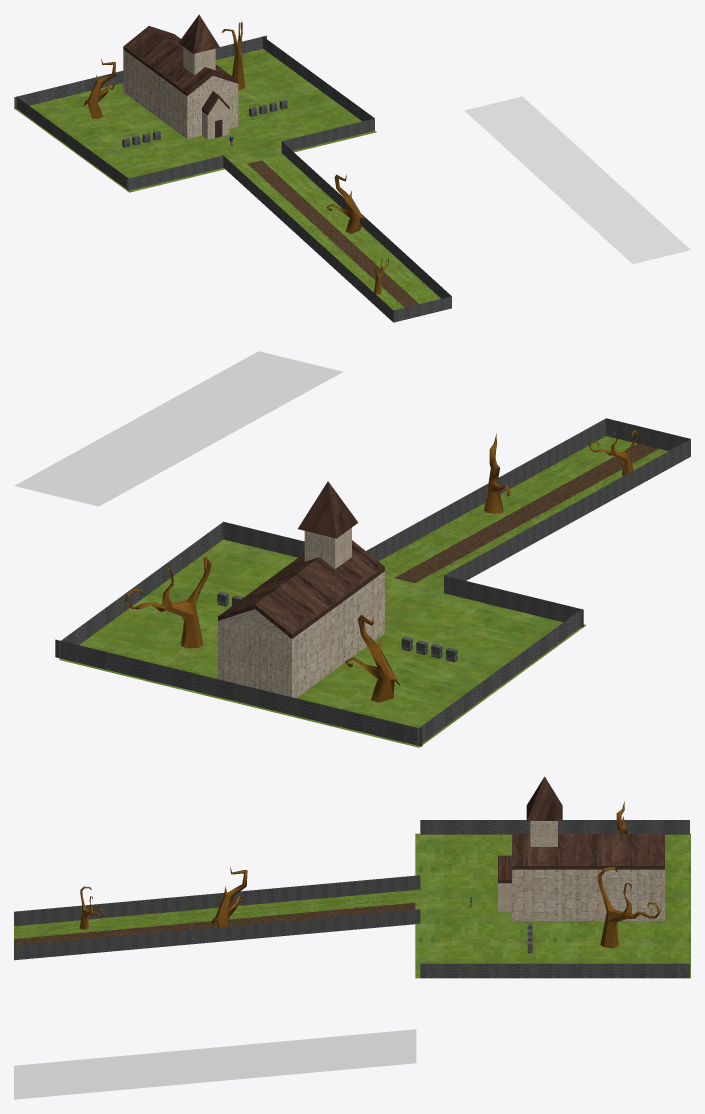
Rendered from hill_level.gltf.
The picture shows the model from 3 angles, top to bottom: view 1: azimuth 30°, elevation 25°; view 2: azimuth 150°, elevation 25°; view 3: azimuth 270°, elevation 25°; orthographic projection. The views are drawn at different scales.
Parts seen in each view (by area): view 1: Church Summit, Hill, Church, Hill.001, Left Ramp Wall, Right Ramp Wall, Back Church Wall, Church Left Wall, Church Right Wall, Church Front Right Wall, Church Front Right, Back Gate (+3 smaller); view 2: Church Summit, Church, Hill, Hill.001, Back Church Wall, Left Ramp Wall, Right Ramp Wall, Church Left Wall, Church Right Wall, Church Front Right Wall, big church tree 1, Church Front Right (+4 smaller); view 3: Church Summit, Church, Hill, Hill.001, Right Ramp Wall, Left Ramp Wall, Church Right Wall, Church Left Wall, big church tree 1, tree 2.
Part boxes in pixels (x1,y1,x2,y2): Church Summit: (15, 49, 376, 192); Hill: (464, 96, 690, 264); Church: (123, 14, 238, 139); Hill.001: (236, 155, 440, 310); Left Ramp Wall: (223, 155, 393, 322); Right Ramp Wall: (281, 141, 451, 298); Back Church Wall: (14, 35, 266, 109); Church Left Wall: (16, 96, 128, 189); Church Right Wall: (262, 36, 374, 121); Church Front Right Wall: (127, 155, 223, 190); Church Front Right: (282, 118, 374, 150); Back Gate: (393, 296, 451, 322); Church Summit: (59, 539, 586, 747); Church: (218, 481, 384, 697); Hill: (14, 351, 342, 506); Hill.001: (379, 436, 668, 589); Back Church Wall: (55, 639, 422, 746); Left Ramp Wall: (444, 439, 690, 580); Right Ramp Wall: (366, 418, 606, 561); Church Left Wall: (417, 609, 581, 746); Church Right Wall: (59, 522, 223, 658); Church Front Right Wall: (444, 575, 583, 627); big church tree 1: (125, 556, 211, 648); Church Front Right: (223, 521, 304, 557); Church Summit: (415, 833, 690, 978); Church: (498, 776, 664, 920); Hill: (14, 1029, 416, 1099); Hill.001: (14, 890, 415, 945); Right Ramp Wall: (14, 909, 420, 960); Left Ramp Wall: (14, 875, 420, 926); Church Right Wall: (420, 963, 689, 978); Church Left Wall: (420, 820, 689, 834); big church tree 1: (597, 867, 659, 948); tree 2: (210, 866, 247, 927).
Size of the model in its own units: 271 by 91.13 by 336.
11 materials, 5 textured.
